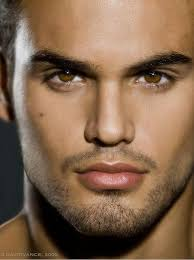e.brown: (141, 70, 163, 87)
